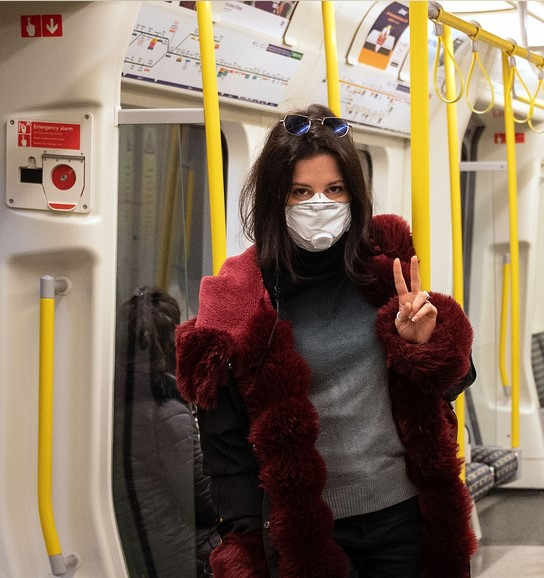face_with_mask: (267, 109, 365, 257)
